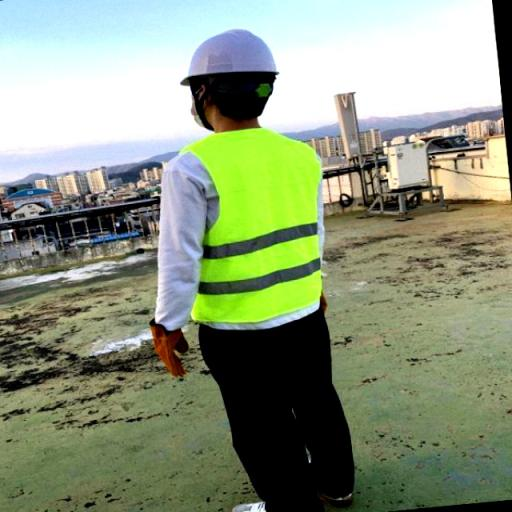Person: (130, 6, 404, 512)
gloves: (134, 314, 200, 384)
helmet: (176, 22, 282, 89)
vest: (172, 121, 334, 329)
